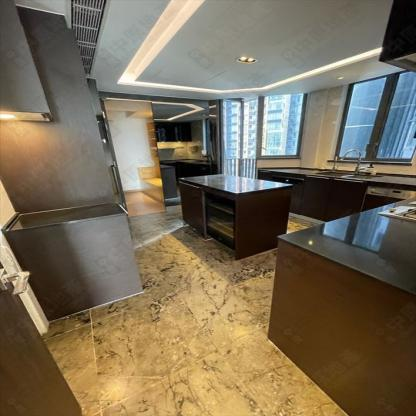Cupboard: (179, 173, 292, 259)
Faucet: (342, 148, 368, 172)
Oven: (358, 185, 415, 213)
Sink: (314, 170, 382, 179)
